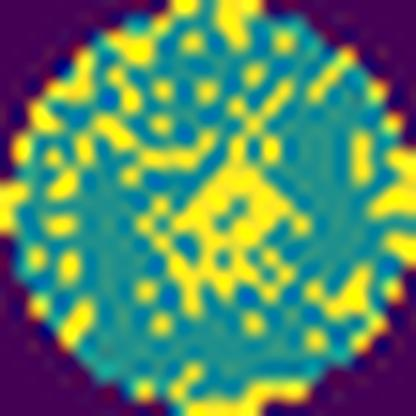Center: (132, 80, 314, 328)
